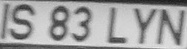3: (72, 5, 93, 44)
8: (47, 4, 70, 41)
I: (1, 2, 8, 41)
L: (105, 5, 129, 46)
N: (157, 6, 185, 47)
S: (10, 3, 35, 40)
Y: (132, 4, 157, 45)
